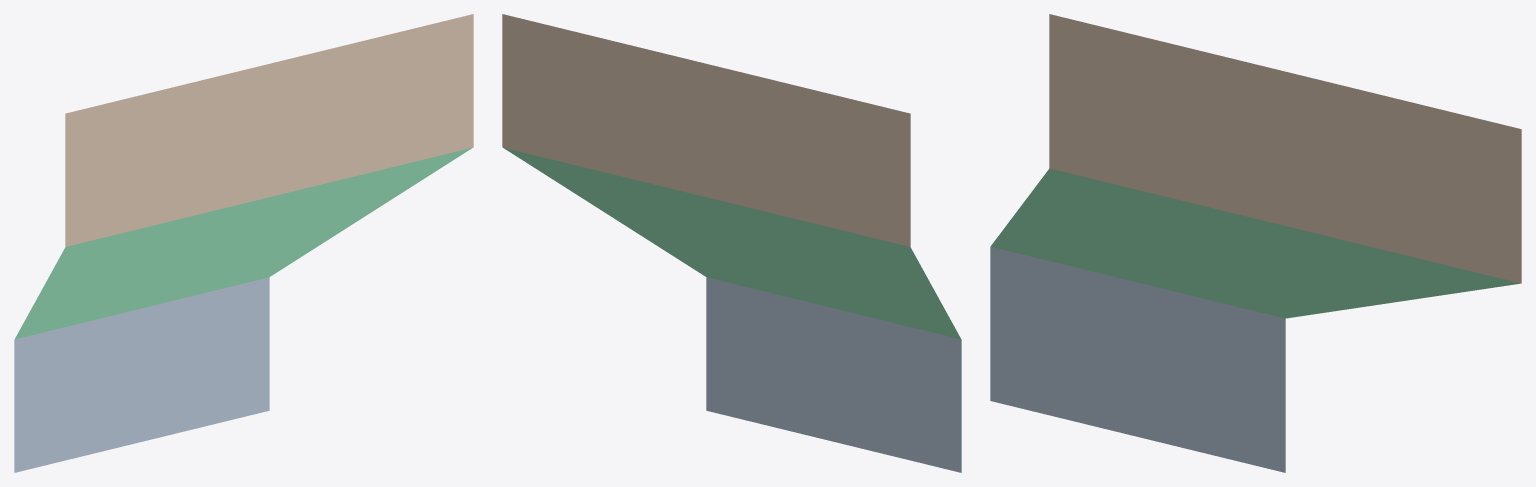
The model's file is scenario1-unequal.glb.
The picture shows the model from 3 angles, left to right: view 1: azimuth 30°, elevation 25°; view 2: azimuth 150°, elevation 25°; view 3: azimuth 330°, elevation 25°; orthographic projection. The views are drawn at different scales.
Parts seen in each view (by area): view 1: scenario1-unequal-lengths; view 2: scenario1-unequal-lengths; view 3: scenario1-unequal-lengths.
Boxes of the visible parts, x1=… form: scenario1-unequal-lengths: x1=14, y1=14, x2=473, y2=472; scenario1-unequal-lengths: x1=502, y1=14, x2=961, y2=472; scenario1-unequal-lengths: x1=990, y1=14, x2=1521, y2=472.
Bounding box in the file's own units: 3.6 × 2.6 × 0.
